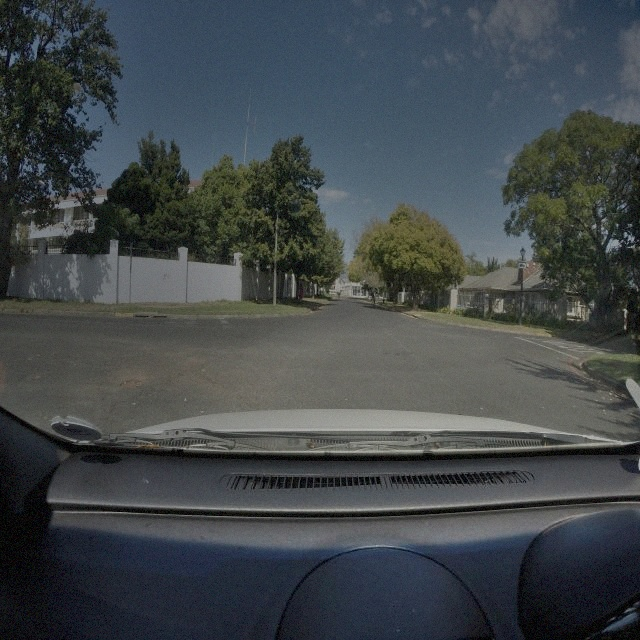pothole: (118, 377, 144, 389)
